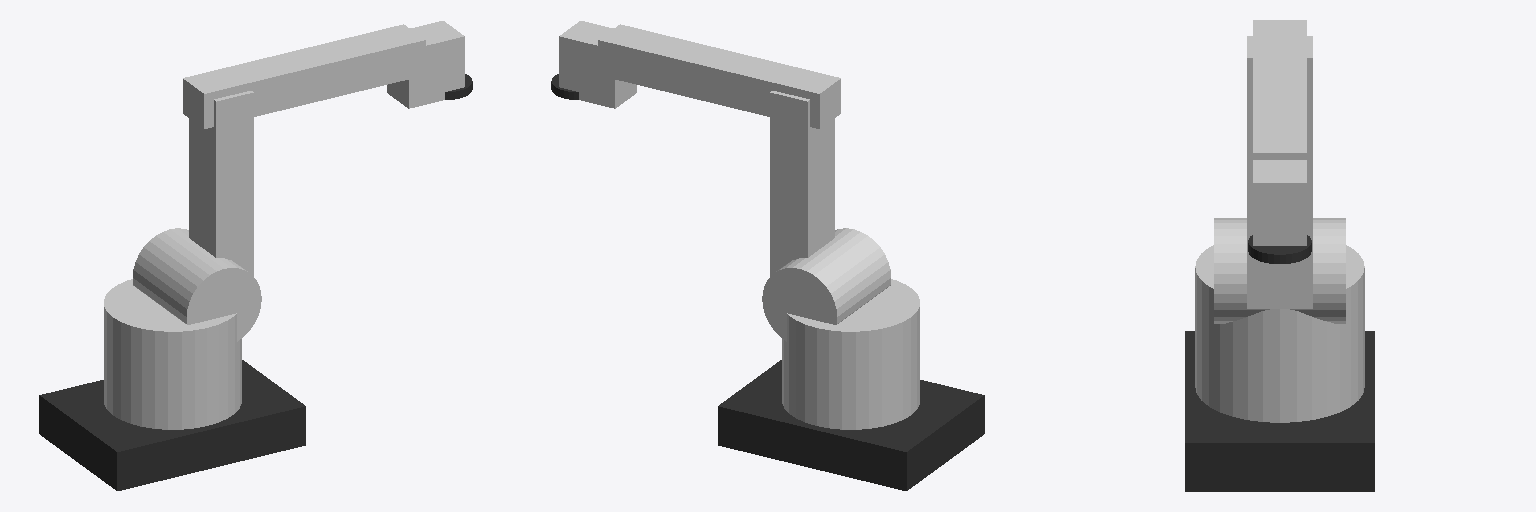
robot.urdf — irb460_approx:
<?xml version="1.0"?>
<!--
  ABB IRB 460-110/2.4, 4 axis palletizer: APPROXIMATE kinematic model.

  ABB does not publish the link lengths and no URDF of this robot exists. The
  lengths are estimated so that the model matches the ABB data sheet
  (IRB 460, ROB0206EN_A, 2011): reach 2403 mm (axis 2 at +85 deg, axis 3 at 0),
  top of the working range 1786 mm (axis 2 at 0, axis 3 at -20 deg).
  The geometry is made of boxes and cylinders; there is no inertial data.

  The parallel linkage keeps the flange horizontal: axis 3 is the angle of the
  upper arm from the horizontal, so joint_3 = axis 3 - axis 2 and the passive
  joint_4 = -axis 3 (see irb460_approx.json).
-->
<robot name="irb460_approx">
  <material name="robot_grey">
    <color rgba="0.85 0.85 0.85 1"/>
  </material>
  <material name="robot_dark">
    <color rgba="0.25 0.25 0.25 1"/>
  </material>

  <link name="base_link">
    <visual>
      <origin xyz="0 0 0.1" rpy="0 0 0"/>
      <geometry><box size="1.007 0.720 0.2"/></geometry>
      <material name="robot_dark"/>
    </visual>
  </link>
  <link name="base"/>
  <joint name="base_link-base" type="fixed">
    <parent link="base_link"/>
    <child link="base"/>
    <origin xyz="0 0 0" rpy="0 0 0"/>
  </joint>

  <link name="link_1">
    <visual>
      <origin xyz="0 0 0.45" rpy="0 0 0"/>
      <geometry><cylinder radius="0.32" length="0.5"/></geometry>
      <material name="robot_grey"/>
    </visual>
    <visual>
      <origin xyz="0.13 0 0.7425" rpy="1.5708 0 0"/>
      <geometry><cylinder radius="0.2" length="0.5"/></geometry>
      <material name="robot_grey"/>
    </visual>
  </link>
  <joint name="joint_1" type="revolute">
    <parent link="base_link"/>
    <child link="link_1"/>
    <origin xyz="0 0 0" rpy="0 0 0"/>
    <axis xyz="0 0 1"/>
    <limit lower="-2.8798" upper="2.8798" velocity="2.5307" effort="0"/>
  </joint>

  <link name="link_2">
    <visual>
      <origin xyz="0 0 0.4725" rpy="0 0 0"/>
      <geometry><box size="0.2 0.25 1.045"/></geometry>
      <material name="robot_grey"/>
    </visual>
  </link>
  <joint name="joint_2" type="revolute">
    <parent link="link_1"/>
    <child link="link_2"/>
    <origin xyz="0.26 0 0.7425" rpy="0 0 0"/>
    <axis xyz="0 1 0"/>
    <limit lower="-3.1416" upper="3.1416" velocity="1.9199" effort="0"/>
  </joint>

  <link name="link_3">
    <visual>
      <origin xyz="0.44 0 0" rpy="0 0 0"/>
      <geometry><box size="1.18 0.2 0.18"/></geometry>
      <material name="robot_grey"/>
    </visual>
  </link>
  <joint name="joint_3" type="revolute">
    <parent link="link_2"/>
    <child link="link_3"/>
    <origin xyz="0 0 0.945" rpy="0 0 0"/>
    <axis xyz="0 1 0"/>
    <limit lower="-6.2832" upper="6.2832" velocity="2.0944" effort="0"/>
  </joint>

  <link name="link_4">
    <visual>
      <origin xyz="0.11 0 -0.09" rpy="0 0 0"/>
      <geometry><box size="0.3 0.2 0.3"/></geometry>
      <material name="robot_grey"/>
    </visual>
  </link>
  <joint name="joint_4" type="revolute">
    <parent link="link_3"/>
    <child link="link_4"/>
    <origin xyz="0.98 0 0" rpy="0 0 0"/>
    <axis xyz="0 1 0"/>
    <limit lower="-6.2832" upper="6.2832" velocity="2.0944" effort="0"/>
  </joint>

  <link name="link_6">
    <visual>
      <origin xyz="0 0 0.02" rpy="0 0 0"/>
      <geometry><cylinder radius="0.12" length="0.04"/></geometry>
      <material name="robot_dark"/>
    </visual>
  </link>
  <joint name="joint_6" type="revolute">
    <parent link="link_4"/>
    <child link="link_6"/>
    <origin xyz="0.22 0 -0.24" rpy="0 0 0"/>
    <axis xyz="0 0 -1"/>
    <limit lower="-5.2360" upper="5.2360" velocity="6.9813" effort="0"/>
  </joint>

  <!-- ABB tool0: z out of the flange, pointing down -->
  <link name="tool0"/>
  <joint name="joint_6-tool0" type="fixed">
    <parent link="link_6"/>
    <child link="tool0"/>
    <origin xyz="0 0 0" rpy="0 3.14159265358979 0"/>
  </joint>
</robot>

--- Render facts (derived) ---
The picture shows the robot from 3 angles, left to right: view 1: azimuth 30°, elevation 25°; view 2: azimuth 150°, elevation 25°; view 3: azimuth 270°, elevation 25°; orthographic projection.
Robot: irb460_approx — 8 links, 7 joints (5 revolute, 2 fixed); root link base_link; default pose: all joints at 0.
Links seen in each view (by area): view 1: link_1, base_link, link_3, link_2, link_4; view 2: link_1, base_link, link_3, link_2, link_4; view 3: link_1, base_link, link_3, link_2, link_4, link_6.
Boxes of the visible links, <box> form: link_1: <box>104,228,261,429</box>; base_link: <box>39,360,305,490</box>; link_3: <box>183,24,425,128</box>; link_2: <box>189,91,253,276</box>; link_4: <box>387,21,464,108</box>; link_1: <box>762,228,919,429</box>; base_link: <box>718,360,984,490</box>; link_3: <box>598,24,840,128</box>; link_2: <box>770,91,834,276</box>; link_4: <box>559,21,636,108</box>; link_1: <box>1195,218,1364,422</box>; base_link: <box>1185,331,1374,491</box>; link_3: <box>1253,20,1306,159</box>; link_2: <box>1247,36,1312,308</box>; link_4: <box>1253,160,1306,245</box>; link_6: <box>1248,235,1311,263</box>.
Bounding box of the posed robot: 2.08 × 0.72 × 1.78 m (x, y, z).
Geometry: primitives only (box / cylinder / sphere), no mesh files.
